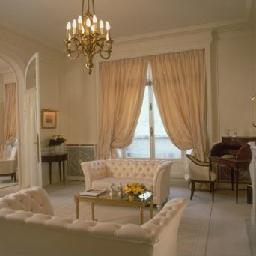Ventana: (99, 61, 200, 153)
